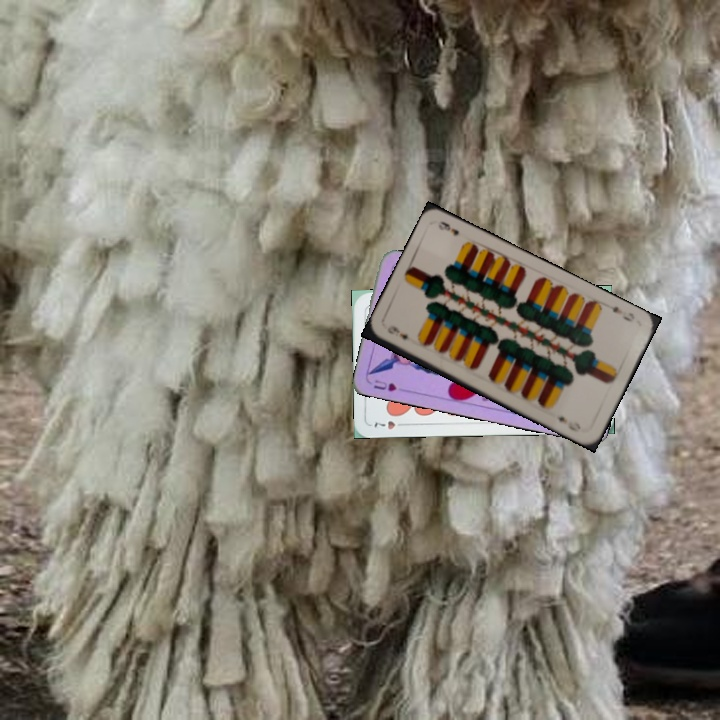E9: (603, 301, 637, 325), (383, 322, 412, 343)
H7: (370, 417, 409, 432)
HU: (369, 376, 399, 394)
